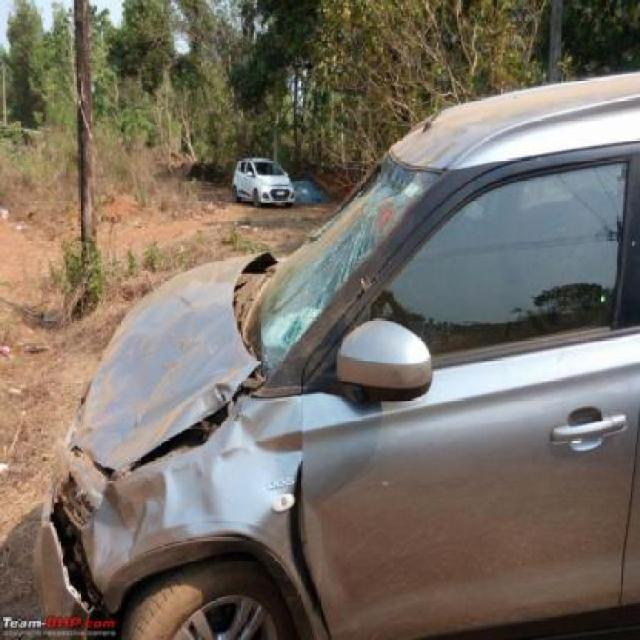Front-Windscreen-Damage: (253, 173, 437, 364)
bonnet-dent: (72, 248, 263, 461)
fender-dent: (90, 394, 305, 617)
front-bumper-dent: (27, 451, 107, 637)
